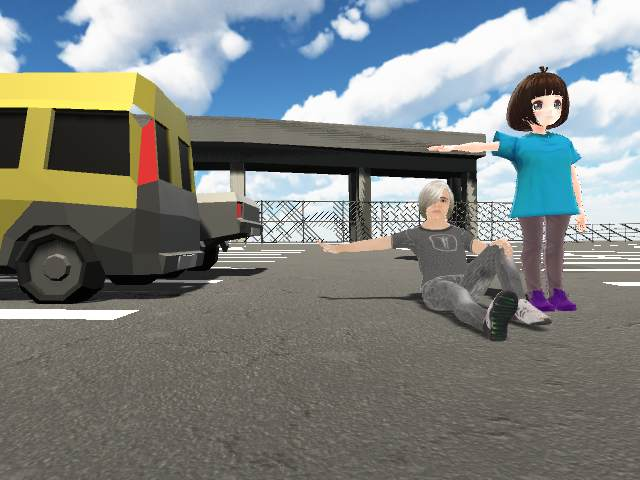doubleP_left: (318, 64, 583, 340)
